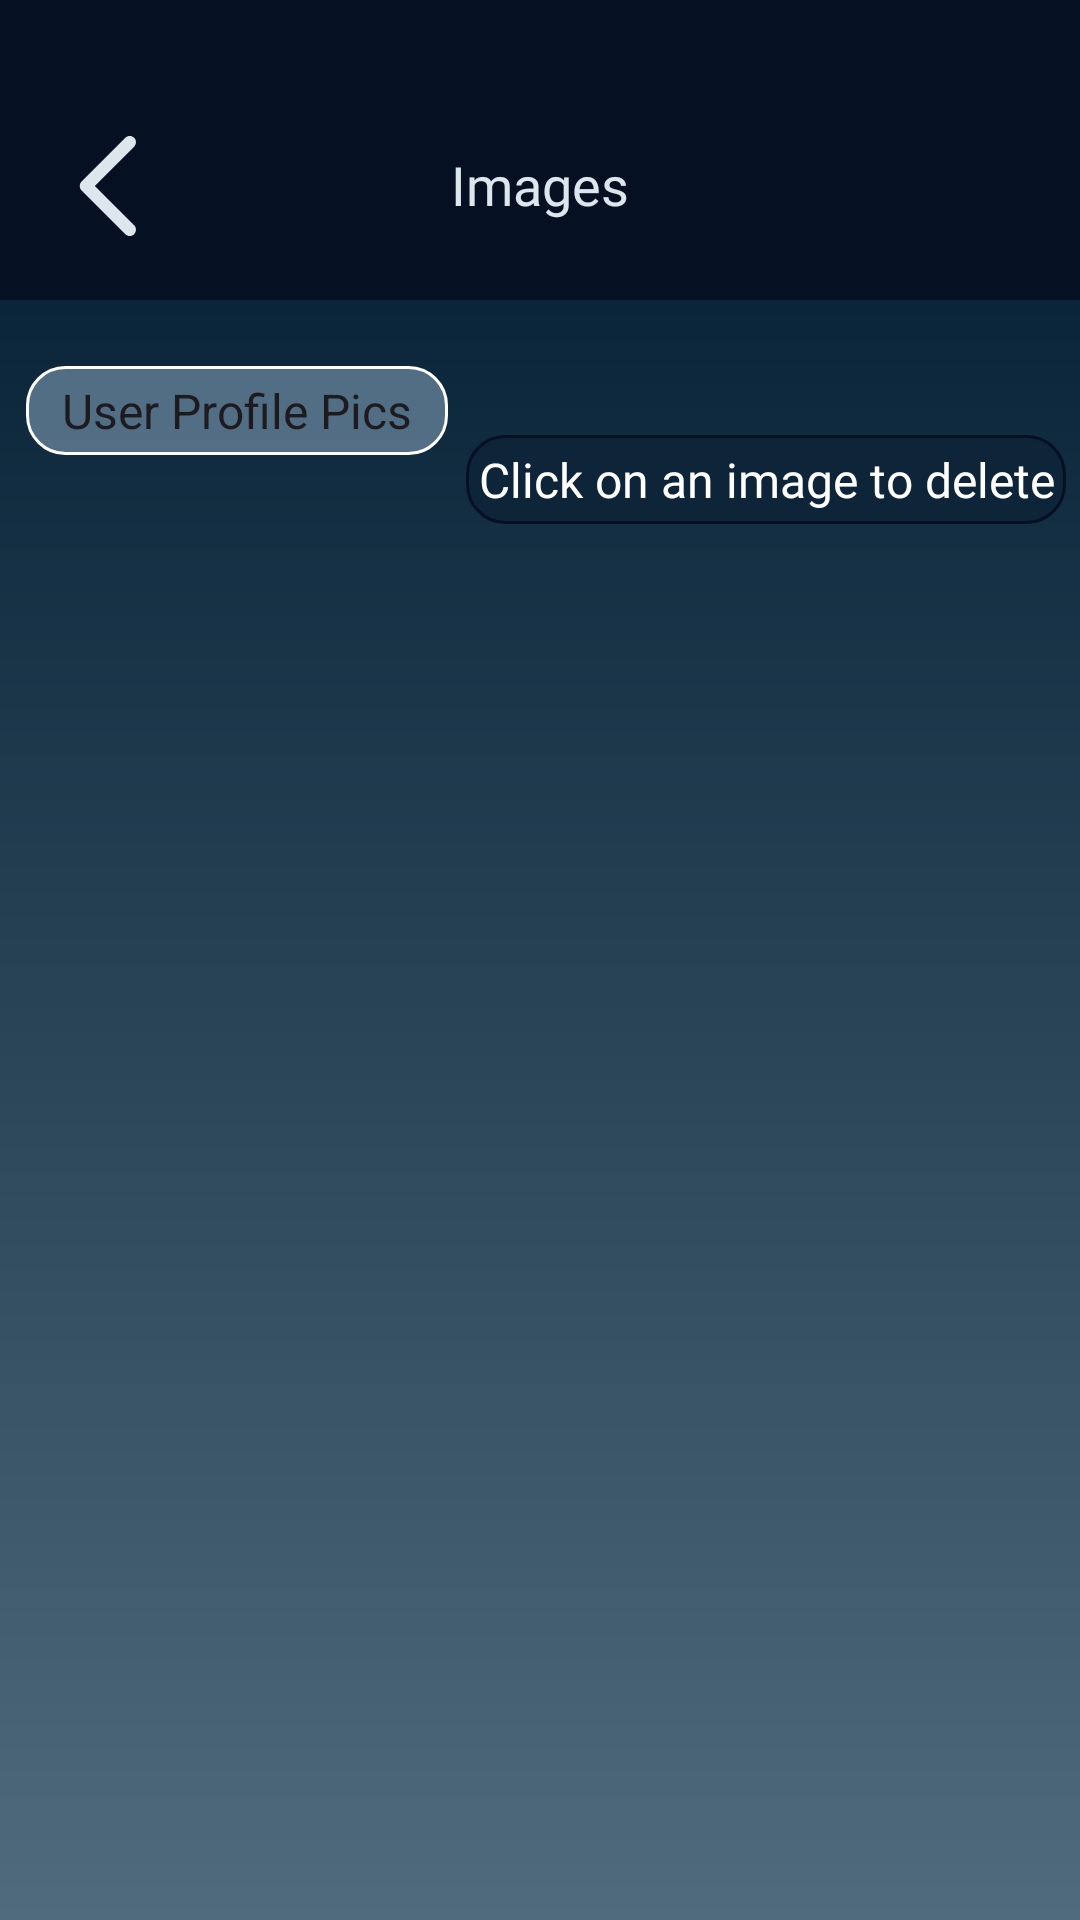

Screen size 1080px x 1920px. Icon name, then its box in pixels as (x1, y1, x2, y2):
Back: (79, 136, 136, 236)
